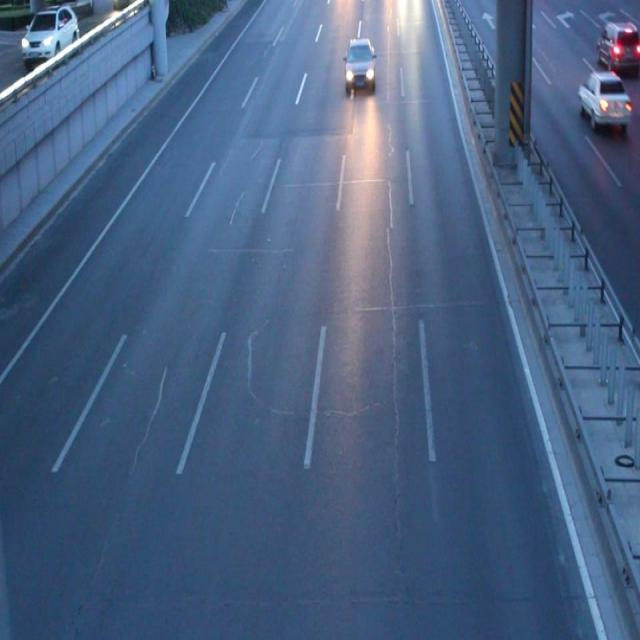car: (342, 37, 375, 91)
